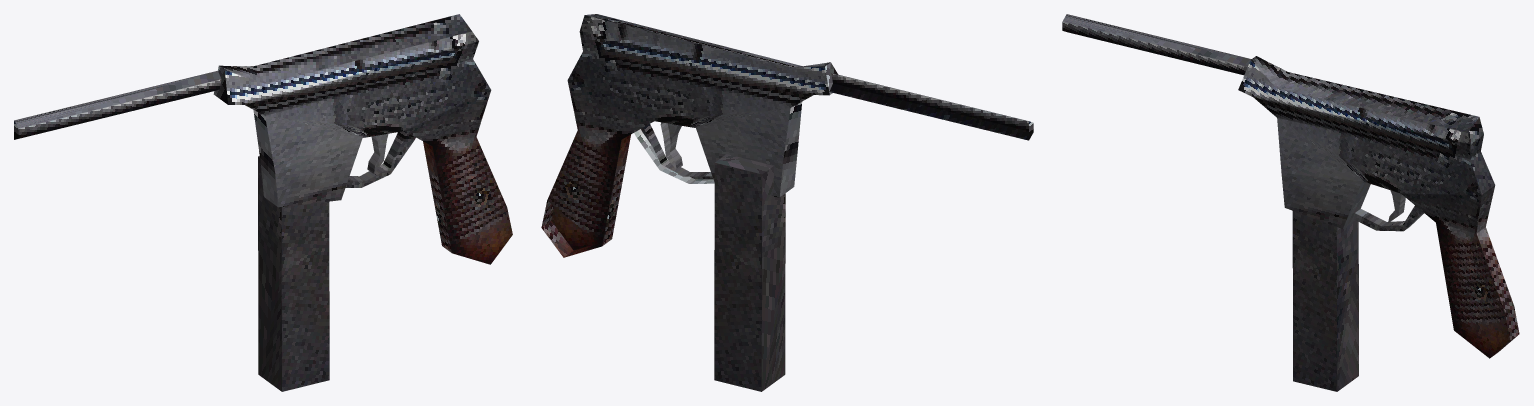
Rendered from mauser.glb.
3 views of the same model, side by side, from view 1: azimuth 30°, elevation 25°; view 2: azimuth 150°, elevation 25°; view 3: azimuth 330°, elevation 25° (orthographic). The views are drawn at different scales.
Parts seen in each view (by area): view 1: Cube, Cube.001; view 2: Cube, Cube.001; view 3: Cube, Cube.001.
Part boxes in pixels (x1=…): Cube: x1=14, y1=14, x2=512, y2=264; Cube.001: x1=258, y1=156, x2=329, y2=391; Cube: x1=541, y1=14, x2=1033, y2=257; Cube.001: x1=714, y1=154, x2=785, y2=391; Cube: x1=1062, y1=14, x2=1519, y2=358; Cube.001: x1=1292, y1=211, x2=1358, y2=391.
Size of the model in its own units: 8.31 by 5.36 by 0.7761.
Materials: 1 (1 with a texture image).
